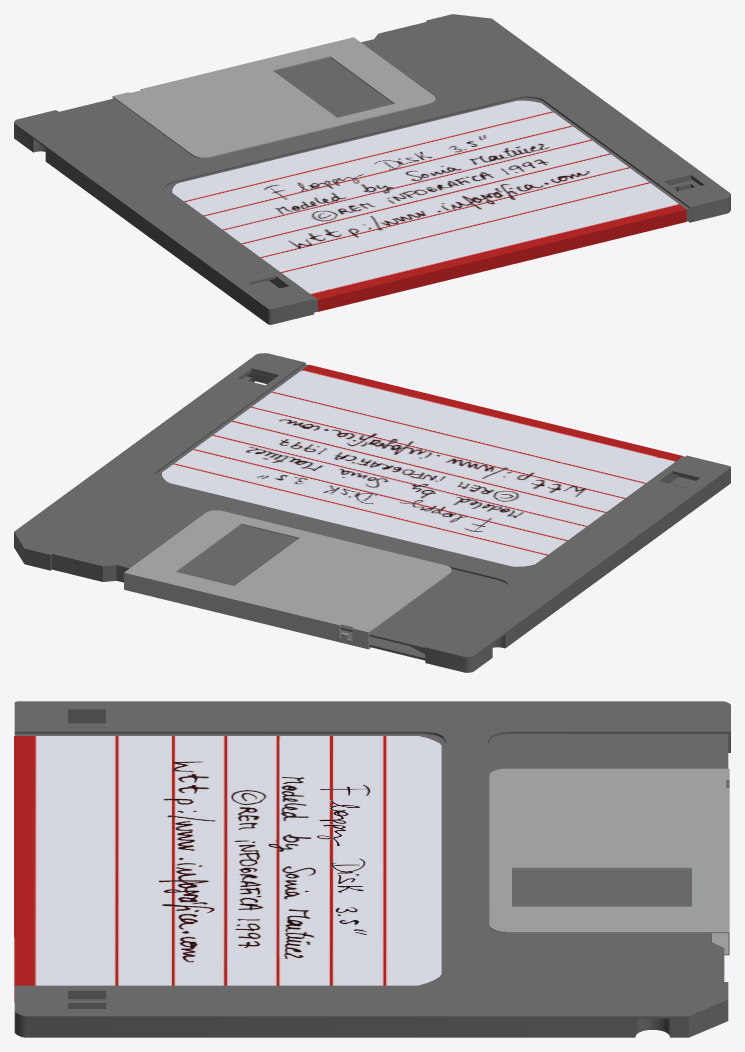
Rendered from diskette.fbx.
The picture shows the model from 3 angles, top to bottom: view 1: azimuth 30°, elevation 25°; view 2: azimuth 150°, elevation 25°; view 3: azimuth 270°, elevation 25°; orthographic projection. The views are drawn at different scales.
Parts seen in each view (by area): view 1: diskette; view 2: diskette; view 3: diskette.
Boxes of the visible parts, x1,y1,x2,y2 form: diskette: (14,14,730,324); diskette: (14,353,730,672); diskette: (14,701,730,1037).
Size of the model in its own units: 7.64 by 0.2654 by 7.35.
